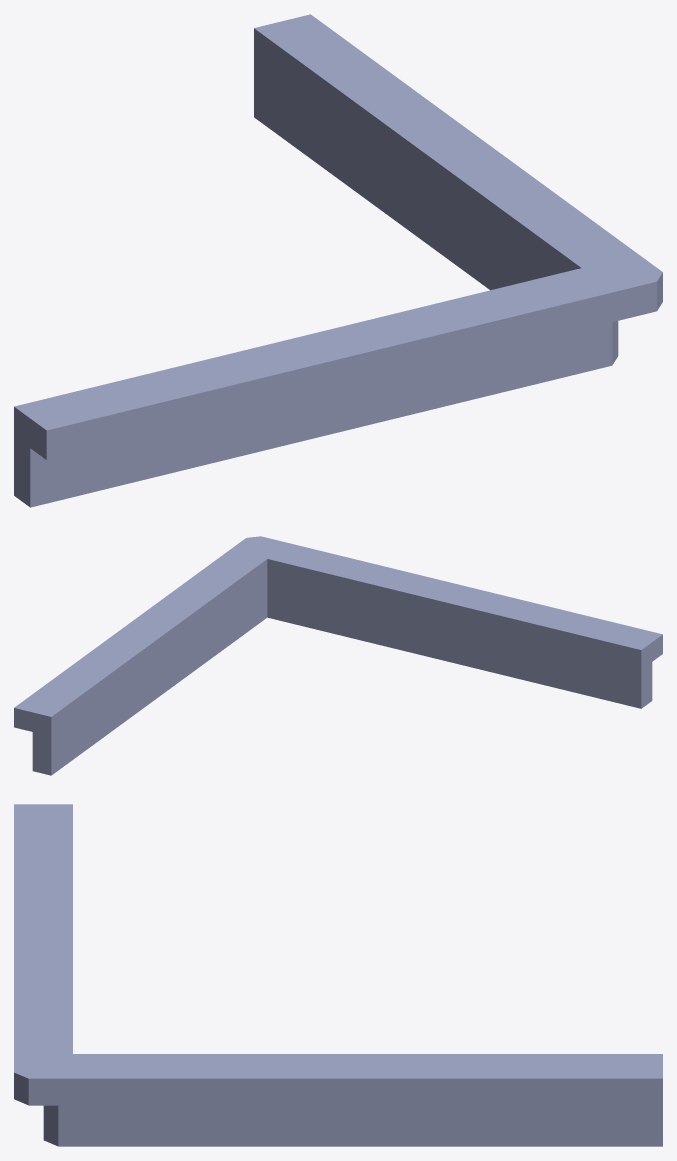
The model's file is border-corner.obj.
The picture shows the model from 3 angles, top to bottom: view 1: azimuth 30°, elevation 25°; view 2: azimuth 150°, elevation 25°; view 3: azimuth 270°, elevation 25°; orthographic projection. The views are drawn at different scales.
Bounding box in the file's own units: 2.2 × 0.3 × 2.2.
